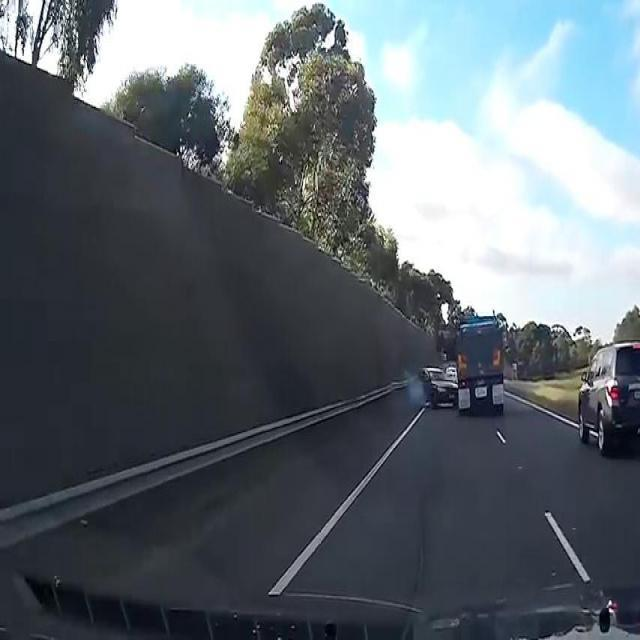multiple_accident: (397, 314, 519, 420)
